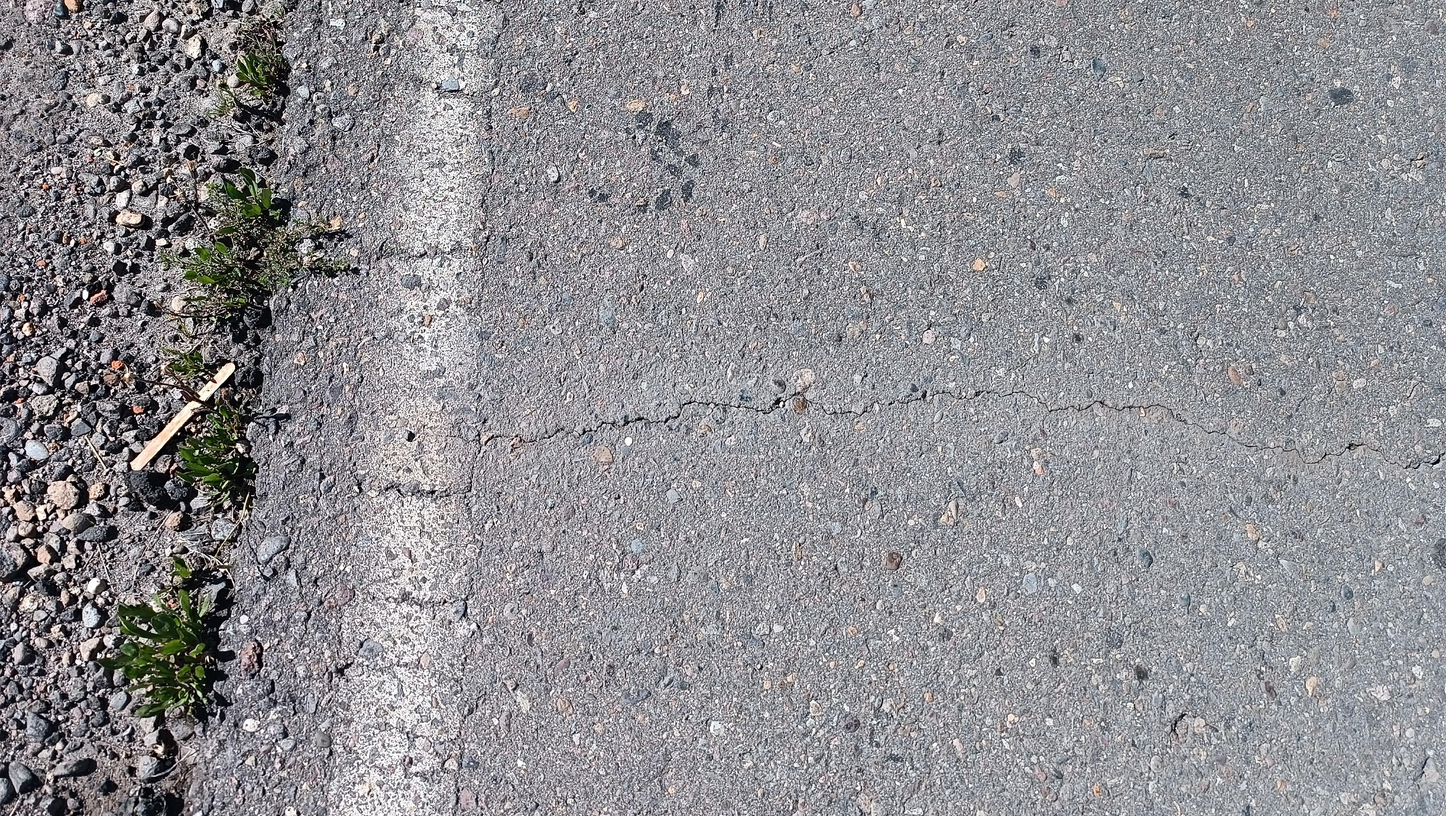GRIETA: (469, 390, 1197, 489), (1200, 426, 1389, 464)
